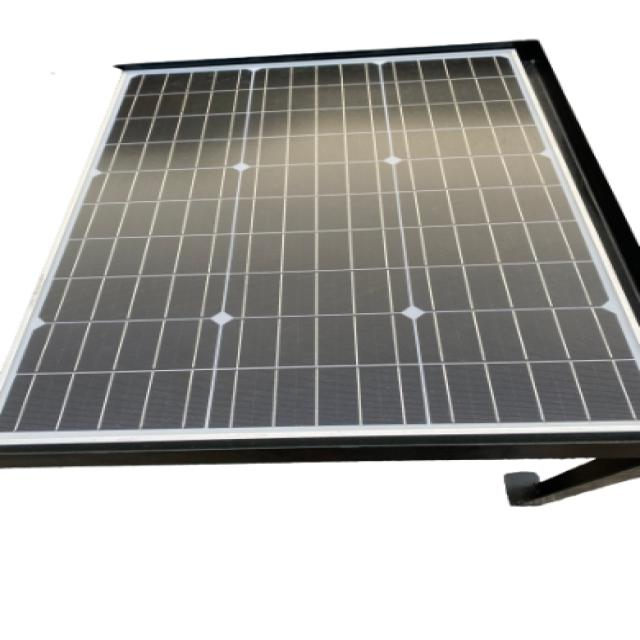clean-solar-panel: (0, 42, 637, 505)
